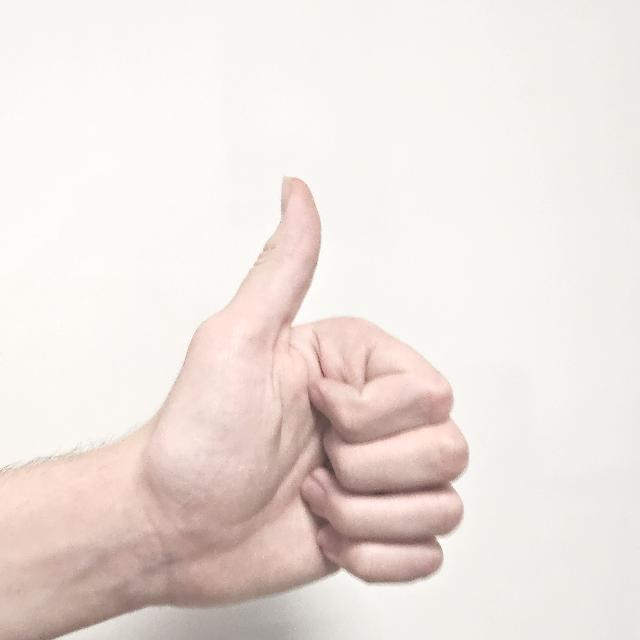Start: (142, 169, 466, 607)
